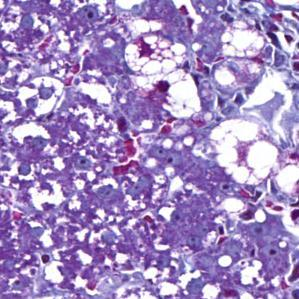ballooning: (138, 66, 204, 121), (124, 32, 189, 79), (216, 20, 266, 60)
